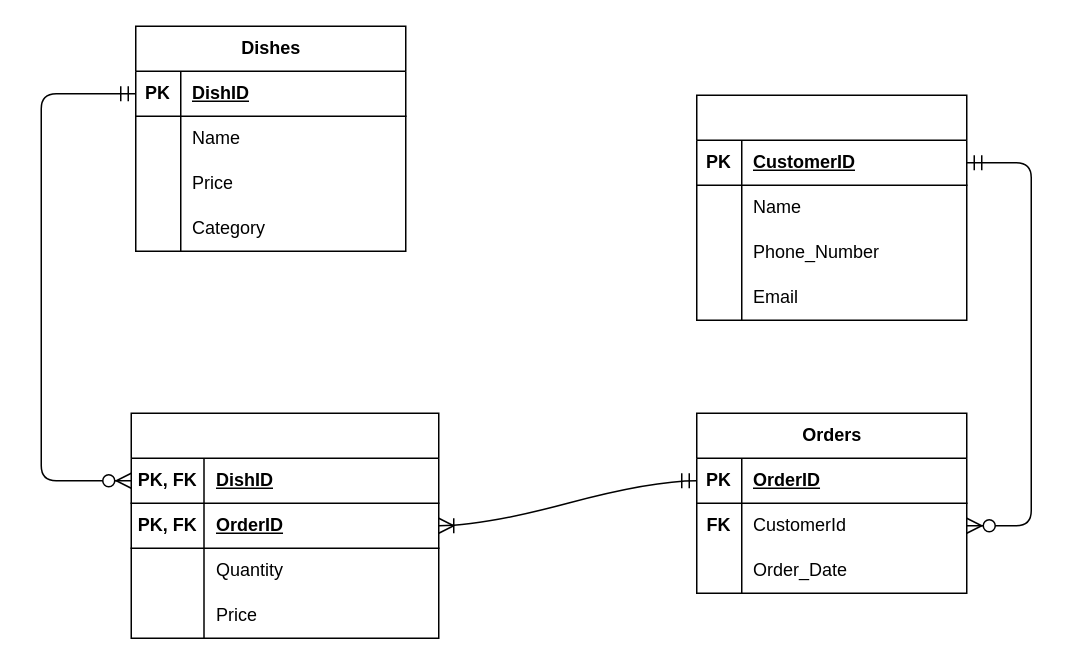
The diagram is 1074 pixels wide and 665 high, and some of its shapes have lost their labels. The box of each missing label's shape, as (x1, y1, x2, y2) in pixels:
Customers: (695, 94, 967, 320)
Order_Details: (130, 412, 439, 638)
